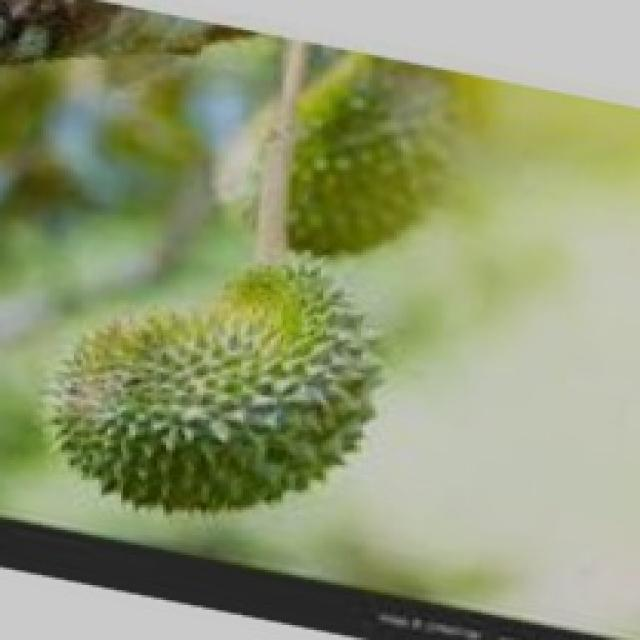fruit: (3, 215, 419, 593)
